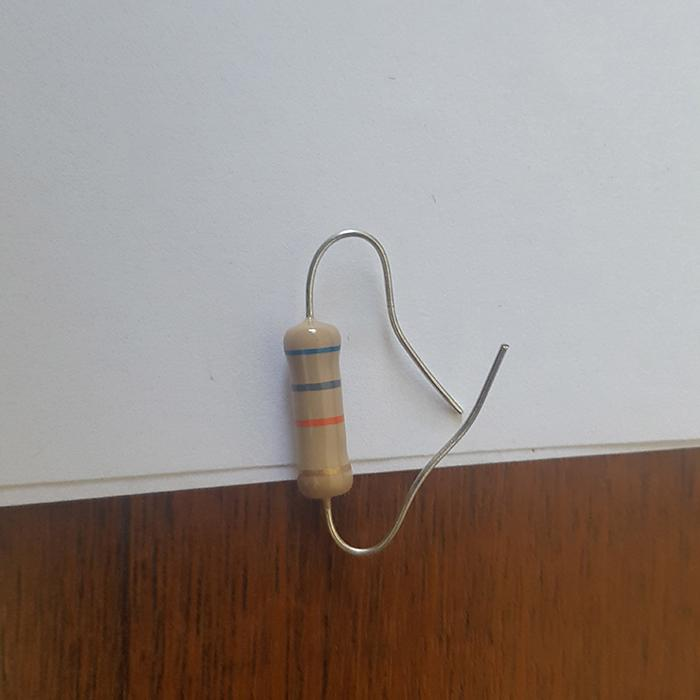resistor: (282, 315, 353, 499)
